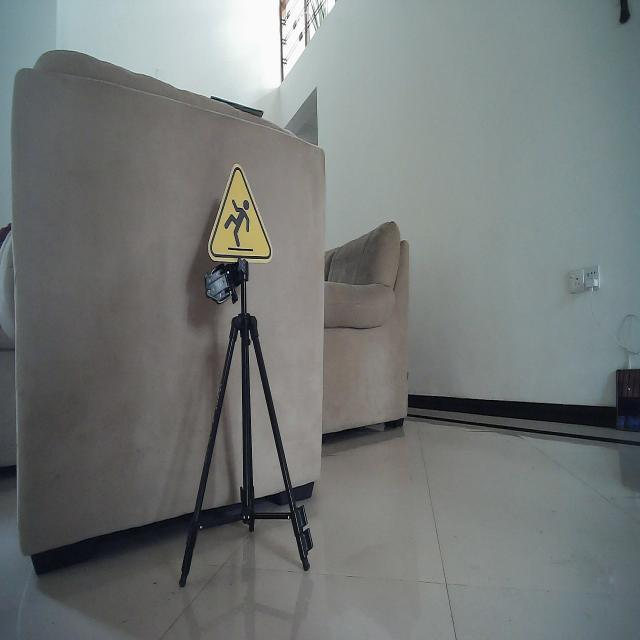slippery_sign: (207, 162, 274, 264)
